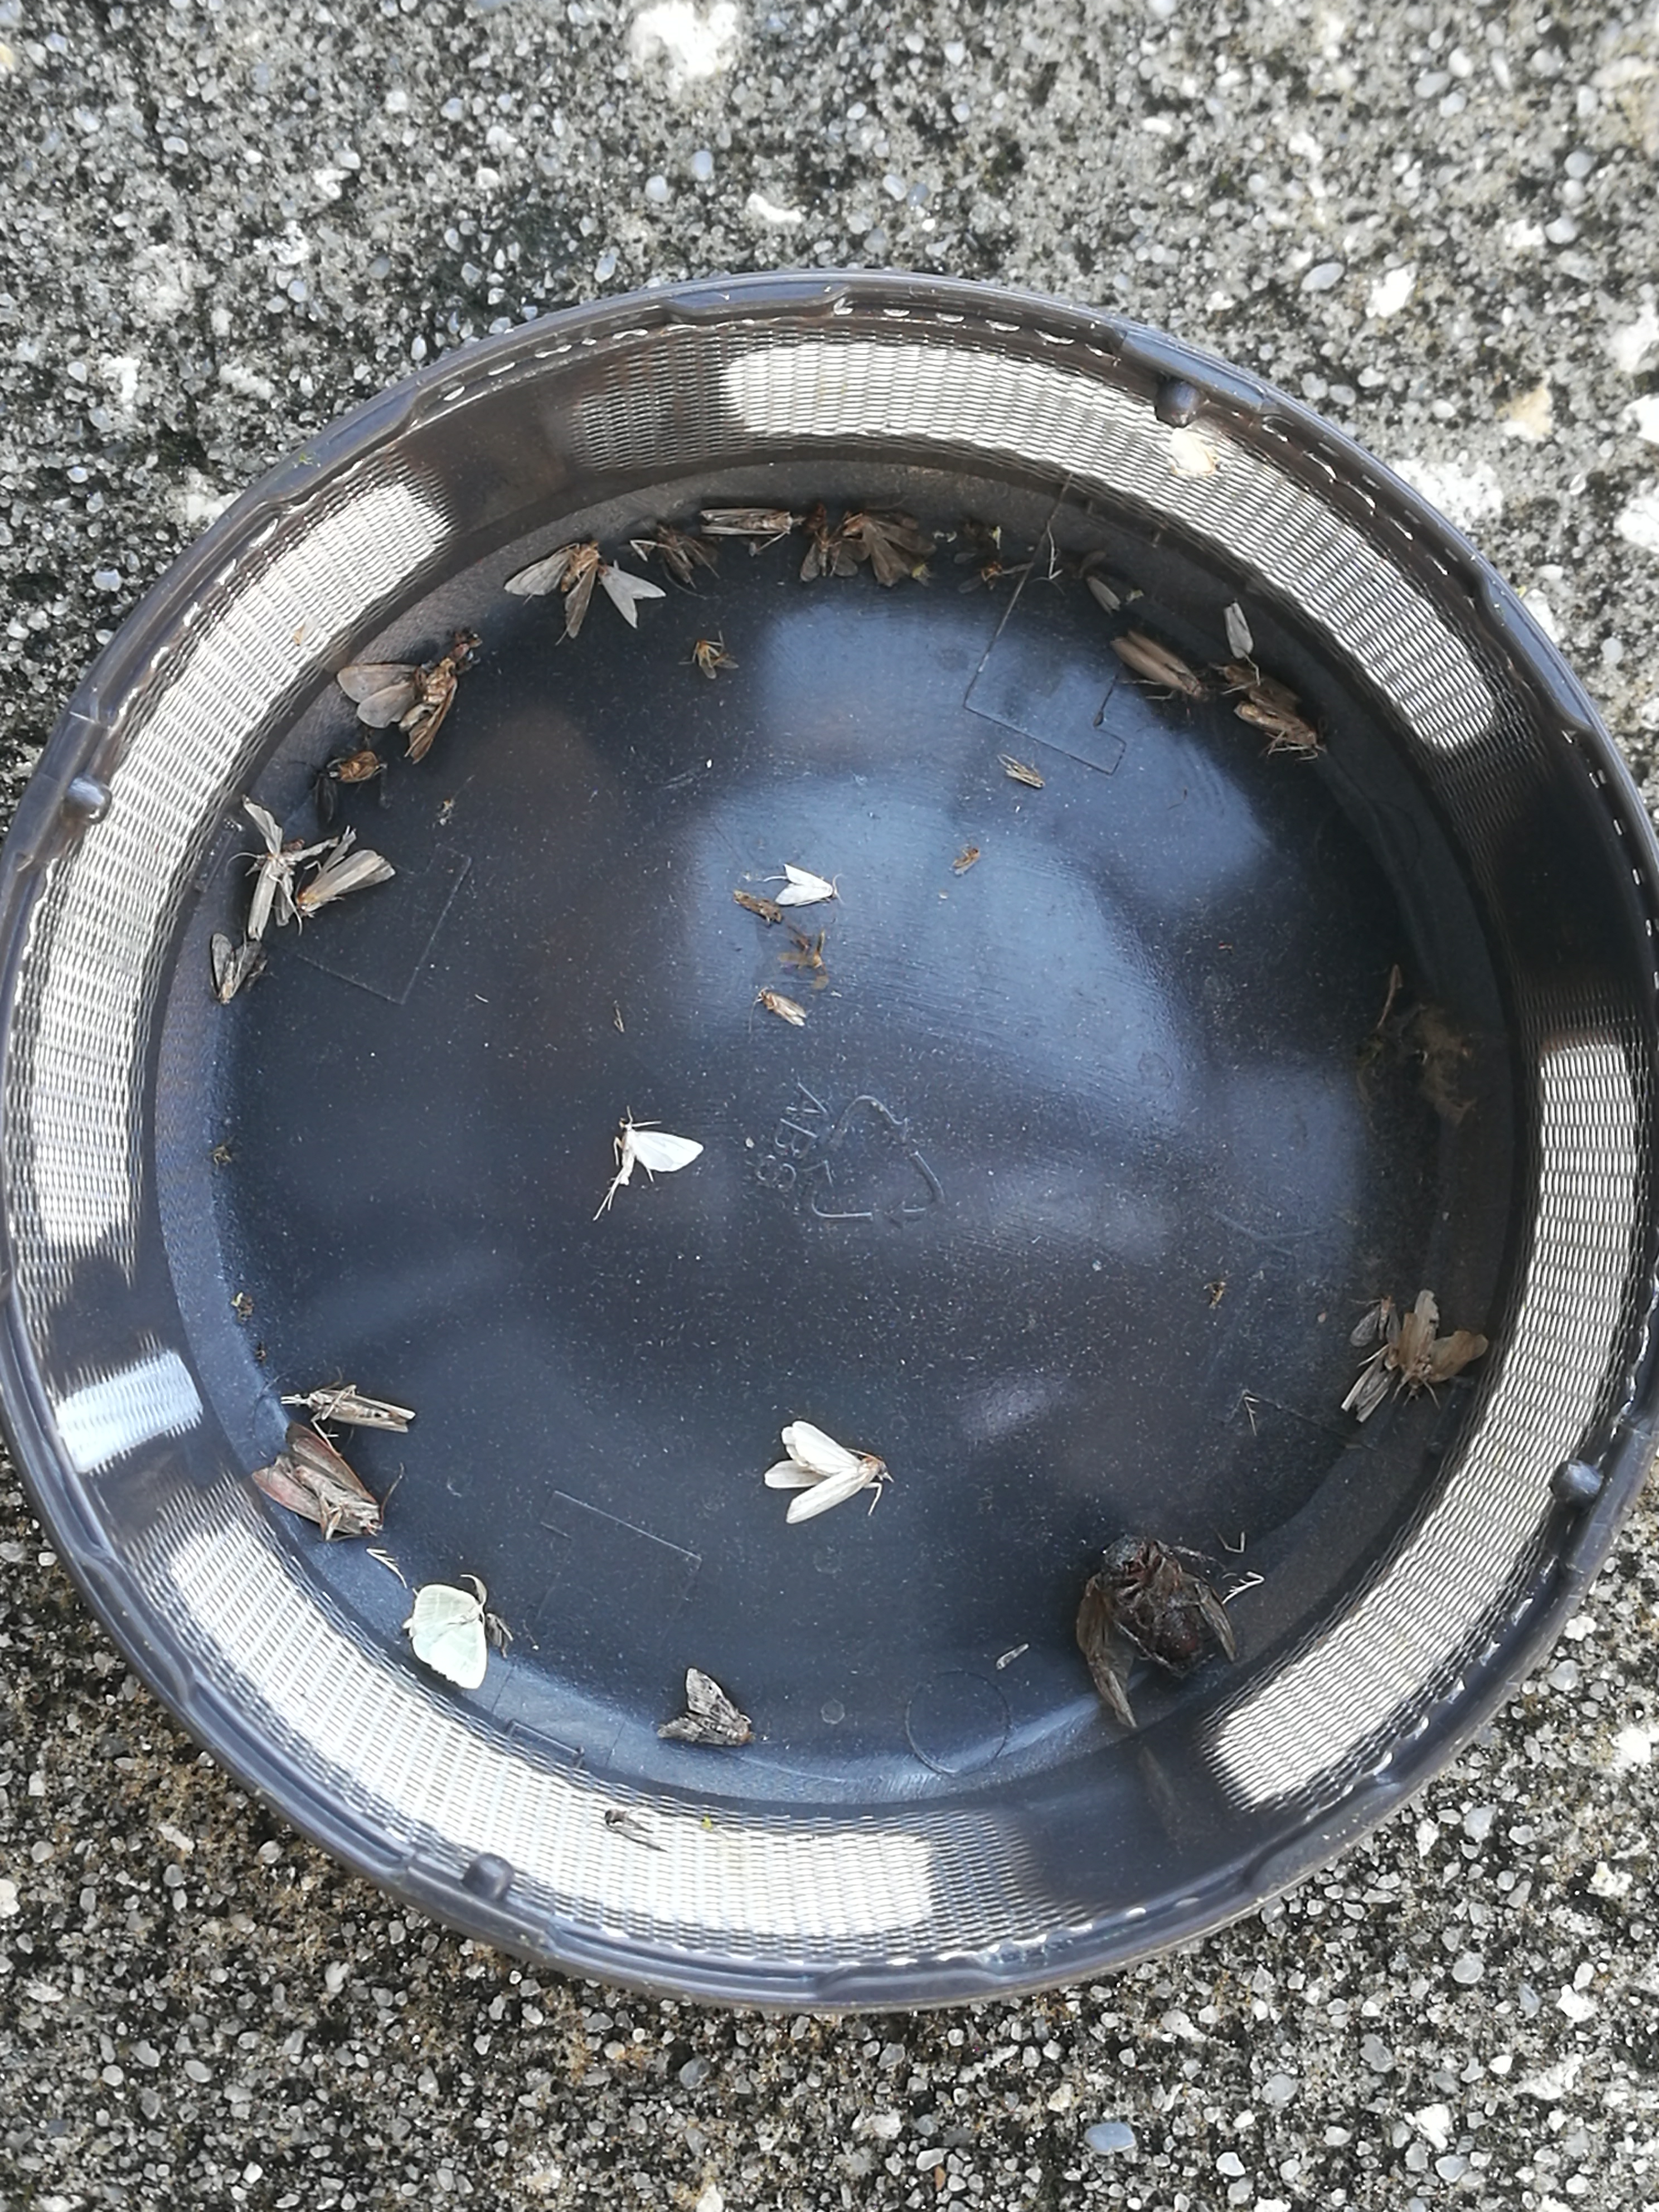beetle: (1103, 1536, 1201, 1658)
mosquito: (1112, 631, 1208, 702), (281, 1390, 416, 1433), (1342, 1341, 1398, 1421), (1234, 702, 1317, 749), (1222, 664, 1295, 714), (701, 507, 793, 535), (732, 888, 782, 921), (758, 991, 803, 1028), (315, 766, 336, 822), (1087, 578, 1119, 611), (484, 1611, 511, 1644), (1007, 768, 1044, 787)
moth: (251, 1423, 380, 1534), (763, 1421, 887, 1526), (336, 658, 455, 761), (504, 542, 598, 639), (296, 829, 396, 909), (410, 1585, 484, 1688), (659, 1669, 751, 1745), (1399, 1313, 1486, 1393), (843, 512, 934, 585), (615, 1120, 704, 1186), (599, 564, 664, 629), (800, 528, 871, 582), (655, 521, 718, 582), (211, 934, 261, 1003), (1351, 1294, 1399, 1345), (774, 864, 831, 904)
